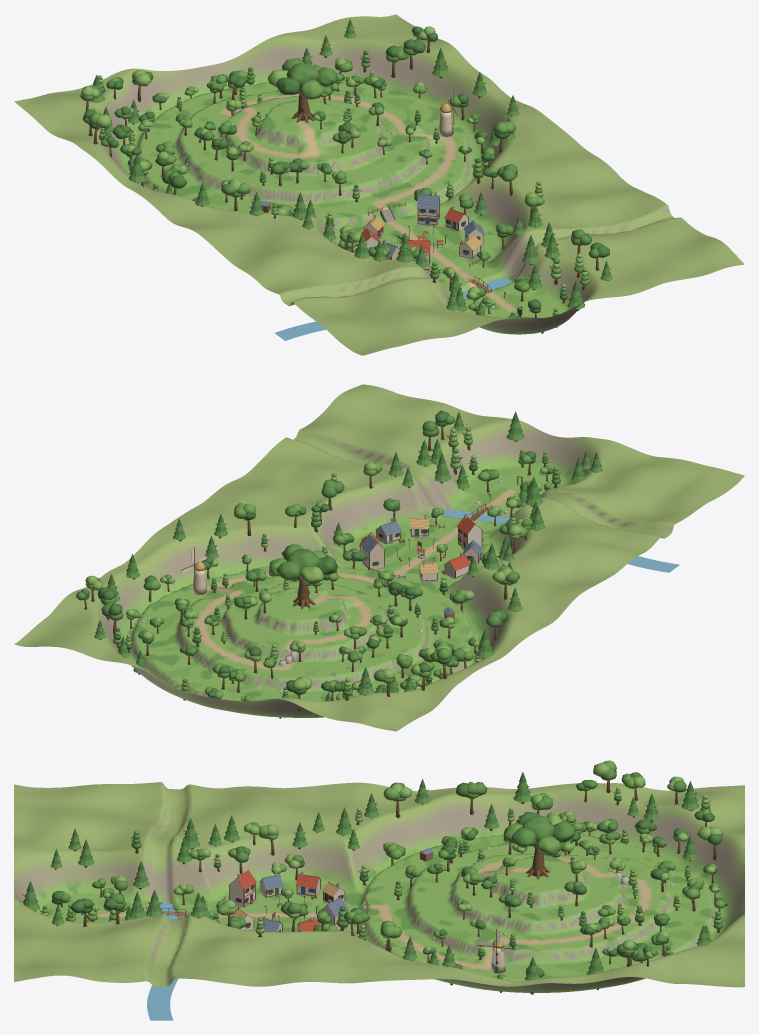
File: margin_village.glb
3 views of the same model, one above another, from view 1: azimuth 30°, elevation 25°; view 2: azimuth 150°, elevation 25°; view 3: azimuth 270°, elevation 25° (orthographic). The views are drawn at different scales.
Parts seen in each view (by area): view 1: terrain, object 20, object 16, object 9, object 7, object 11, object 10, object 6, object 2, object 8, object 15, water (+2 smaller); view 2: terrain, object 16, object 20, object 9, object 11, object 7, object 10, object 6, object 8, object 2, object 3, object 15 (+2 smaller); view 3: terrain, object 20, object 16, object 9, object 10, object 7, object 11, object 3, object 8, object 6, water, object 15 (+3 smaller).
Boxes of the visible parts, <box> form: terrain: <box>14,14,744,355</box>; object 20: <box>80,70,262,175</box>; object 16: <box>225,19,486,120</box>; object 9: <box>128,141,396,249</box>; object 7: <box>312,95,519,227</box>; object 11: <box>446,181,609,312</box>; object 10: <box>339,225,519,317</box>; object 6: <box>320,103,514,240</box>; object 2: <box>432,185,599,317</box>; object 8: <box>151,151,401,251</box>; object 15: <box>234,26,486,123</box>; water: <box>274,278,512,340</box>; terrain: <box>14,384,744,731</box>; object 16: <box>76,549,326,698</box>; object 20: <box>228,612,474,701</box>; object 9: <box>370,536,522,662</box>; object 11: <box>331,410,536,540</box>; object 7: <box>160,479,409,590</box>; object 10: <box>433,452,603,560</box>; object 6: <box>167,498,425,594</box>; object 8: <box>377,548,520,657</box>; object 2: <box>369,426,522,548</box>; object 3: <box>440,462,597,564</box>; object 15: <box>84,562,315,700</box>; terrain: <box>14,782,744,992</box>; object 20: <box>516,760,723,892</box>; object 16: <box>503,814,728,980</box>; object 9: <box>284,772,531,901</box>; object 10: <box>60,815,293,907</box>; object 7: <box>280,857,521,980</box>; object 11: <box>51,889,280,933</box>; object 3: <box>60,828,289,909</box>; object 8: <box>293,789,522,908</box>; object 6: <box>291,867,515,992</box>; water: <box>147,902,178,1020</box>; object 15: <box>525,845,720,994</box>.
Bounding box in the file's own units: 124 × 30.24 × 190.
